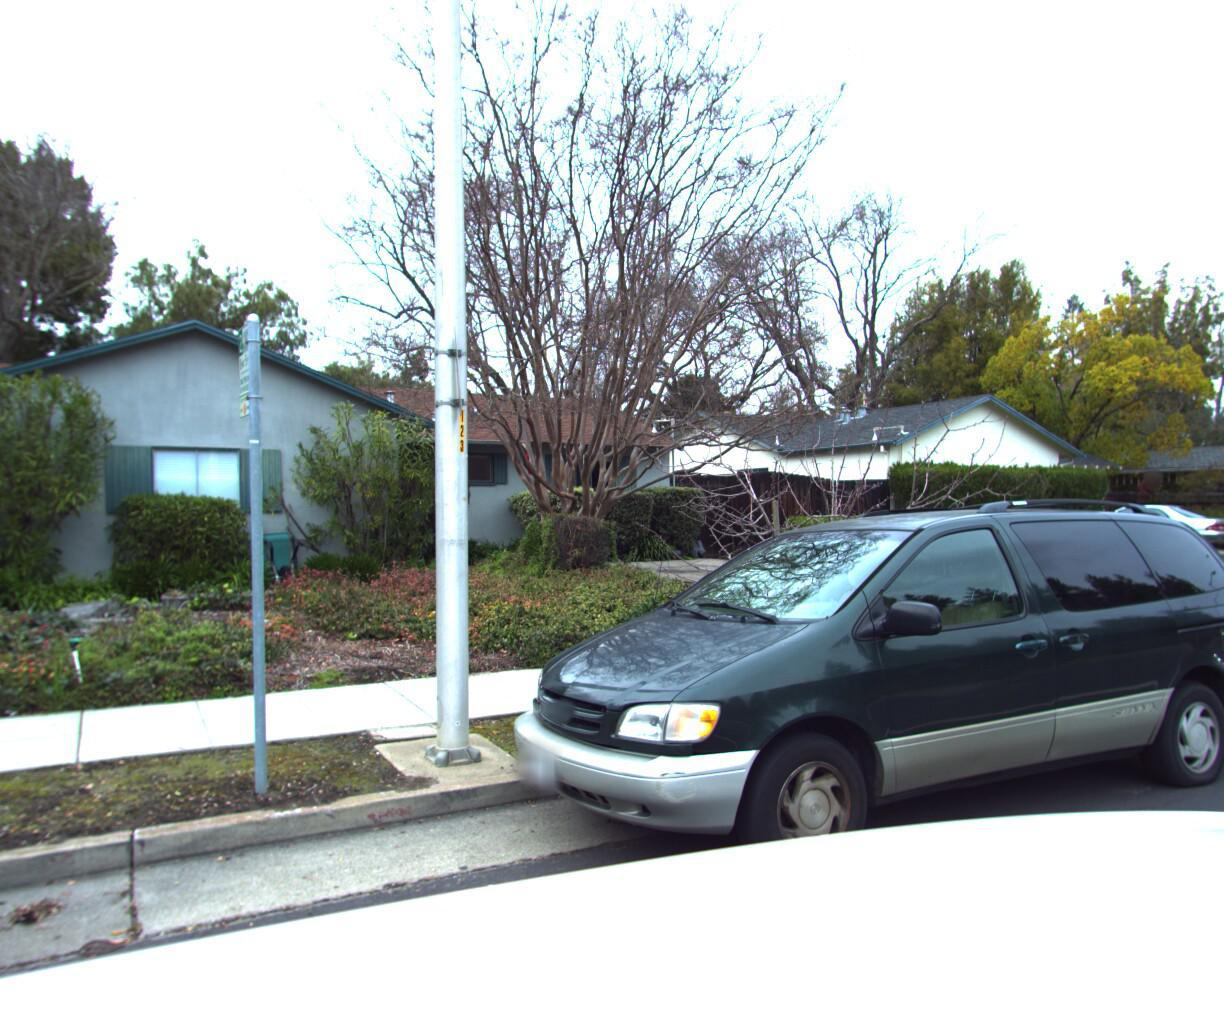car: (460, 489, 1224, 959), (1060, 503, 1224, 555)
